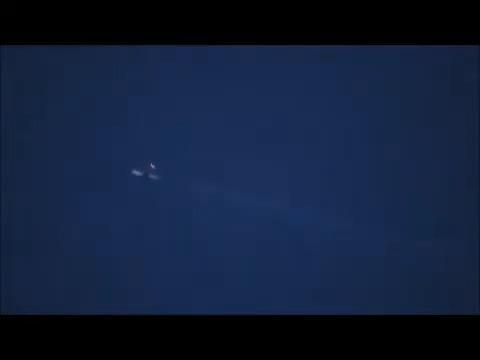Plane: (115, 153, 183, 192)
